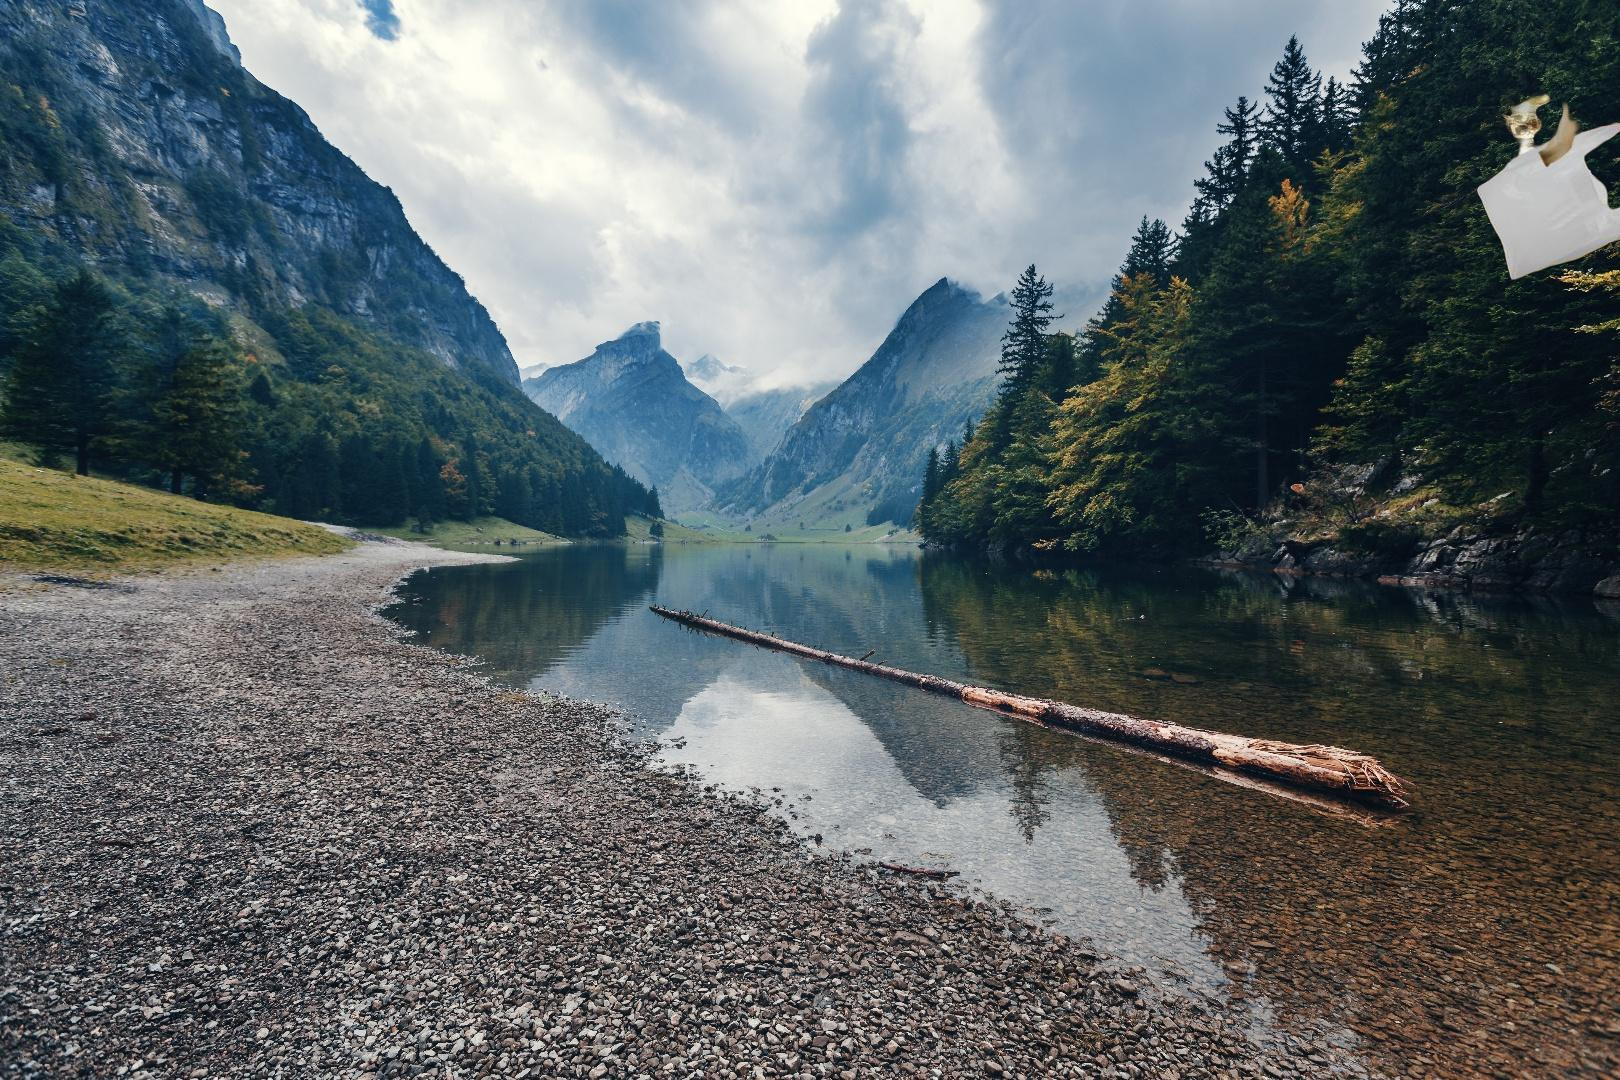plastic-bag: (1469, 24, 1620, 282)
